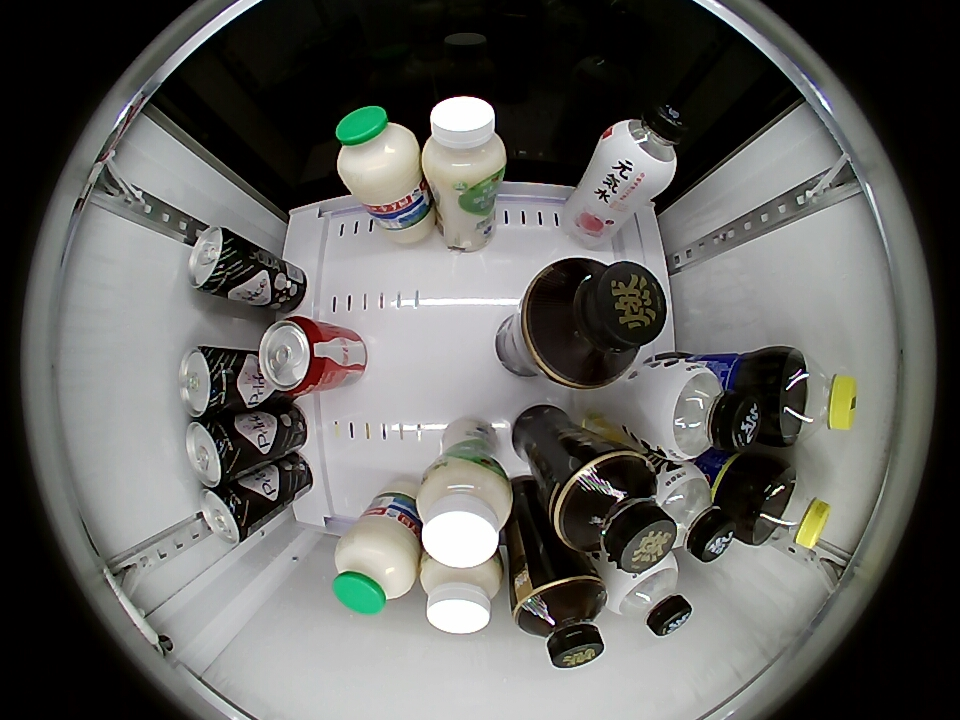baishikele: (773, 351, 858, 445), (748, 466, 832, 550)
kele: (258, 316, 327, 394)
liziyuan: (335, 105, 422, 204), (332, 517, 419, 616)
qingdaowangzi-1: (178, 345, 241, 419), (184, 418, 245, 487), (187, 226, 244, 296), (198, 485, 254, 544)
rancha-1: (517, 257, 669, 389), (552, 452, 680, 572), (513, 575, 607, 669)
yousuanru: (416, 457, 514, 568), (421, 96, 507, 193), (420, 551, 504, 634)
yuanqishui: (643, 357, 762, 461), (597, 100, 688, 194), (652, 462, 736, 562), (604, 554, 693, 636)
